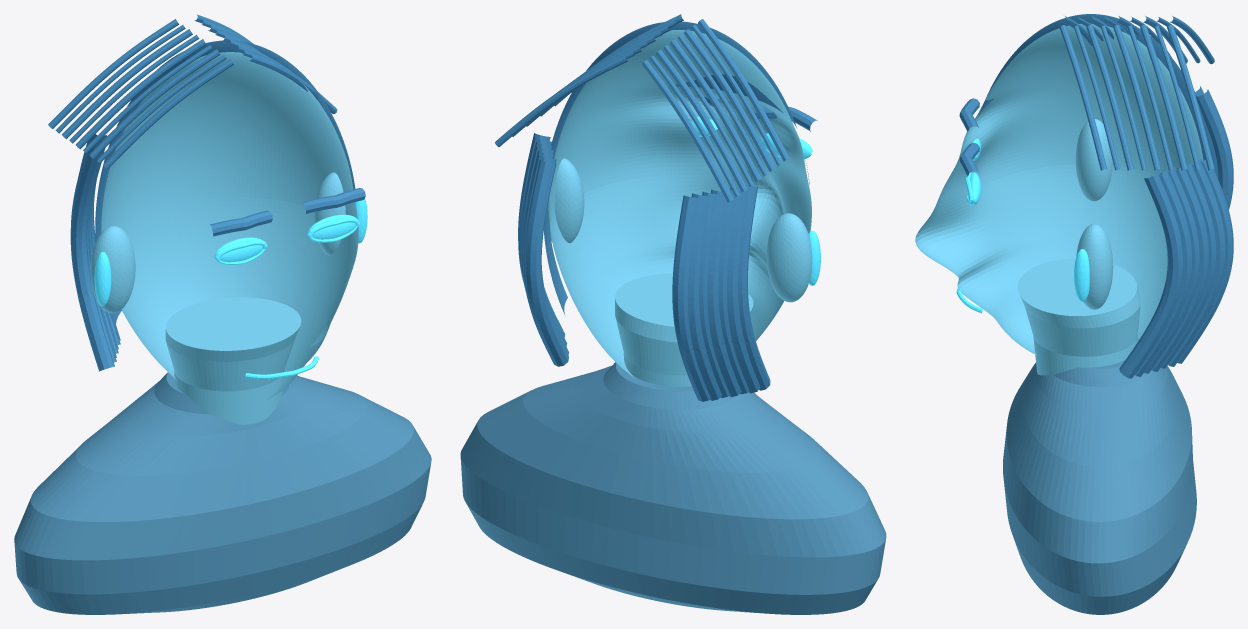
The model's file is hector_hologram_base.glb.
3 renders of one model, left to right at view 1: azimuth 30°, elevation 25°; view 2: azimuth 150°, elevation 25°; view 3: azimuth 270°, elevation 25°, orthographic. The views are drawn at different scales.
Visible parts, largest first — view 1: Hector_Shoulders_Bust, Hector_Face_Surface, Hector_Neck, Hector_Hair_Side_-1_0, Hector_Left_Ear, Hector_Hair_Crown, Hector_Hair_Swept_-1_6, Hector_Hair_Swept_-1_4, Hector_Hair_Swept_-1_2, Hector_Hair_Swept_-1_8, Hector_Hair_Swept_-1_0, Hector_Right_Ear (+11 smaller); view 2: Hector_Shoulders_Bust, Hector_Face_Surface, Hector_Neck, Hector_Hair_Side_1_6, Hector_Left_Ear, Hector_Hair_Side_-1_6, Hector_Hair_Crown, Hector_Hair_Side_-1_5, Hector_Hair_Side_-1_3, Hector_Hair_Side_-1_1, Hector_Hair_Side_-1_0, Hector_Right_Ear (+15 smaller); view 3: Hector_Face_Surface, Hector_Shoulders_Bust, Hector_Neck, Hector_Hair_Side_1_0, Hector_Left_Ear, Hector_Right_Ear, Hector_Hair_Side_1_1, Hector_Hair_Side_1_3, Hector_Hair_Side_1_5, Hector_Hair_Crown, Hector_Hair_Side_-1_6, Hector_Hair_Side_1_6 (+13 smaller).
Part boxes in pixels (left/top/right/bottom): Hector_Shoulders_Bust: left=14, top=372, right=431, bottom=614; Hector_Face_Surface: left=101, top=52, right=358, bottom=400; Hector_Neck: left=165, top=297, right=301, bottom=424; Hector_Hair_Side_-1_0: left=70, top=154, right=114, bottom=371; Hector_Left_Ear: left=90, top=226, right=135, bottom=313; Hector_Hair_Crown: left=95, top=40, right=355, bottom=330; Hector_Hair_Swept_-1_6: left=62, top=29, right=192, bottom=139; Hector_Hair_Swept_-1_4: left=75, top=39, right=206, bottom=149; Hector_Hair_Swept_-1_2: left=89, top=49, right=220, bottom=158; Hector_Hair_Swept_-1_8: left=48, top=19, right=178, bottom=128; Hector_Hair_Swept_-1_0: left=103, top=59, right=233, bottom=169; Hector_Right_Ear: left=314, top=172, right=345, bottom=255; Hector_Shoulders_Bust: left=460, top=362, right=886, bottom=614; Hector_Face_Surface: left=549, top=30, right=811, bottom=377; Hector_Neck: left=615, top=273, right=753, bottom=386; Hector_Hair_Side_1_6: left=524, top=160, right=568, bottom=366; Hector_Left_Ear: left=766, top=213, right=812, bottom=302; Hector_Hair_Side_-1_6: left=672, top=195, right=710, bottom=401; Hector_Hair_Crown: left=543, top=21, right=809, bottom=315; Hector_Hair_Side_-1_5: left=688, top=193, right=722, bottom=400; Hector_Hair_Side_-1_3: left=707, top=189, right=741, bottom=396; Hector_Hair_Side_-1_1: left=727, top=187, right=760, bottom=393; Hector_Hair_Side_-1_0: left=738, top=185, right=770, bottom=390; Hector_Right_Ear: left=547, top=158, right=584, bottom=243; Hector_Face_Surface: left=915, top=23, right=1203, bottom=355; Hector_Shoulders_Bust: left=1003, top=338, right=1196, bottom=614; Hector_Neck: left=1017, top=258, right=1140, bottom=375; Hector_Hair_Side_1_0: left=1119, top=171, right=1183, bottom=378; Hector_Left_Ear: left=1075, top=119, right=1112, bottom=201; Hector_Right_Ear: left=1076, top=223, right=1113, bottom=309; Hector_Hair_Side_1_1: left=1135, top=168, right=1192, bottom=376; Hector_Hair_Side_1_3: left=1151, top=167, right=1209, bottom=371; Hector_Hair_Side_1_5: left=1168, top=158, right=1225, bottom=366; Hector_Hair_Crown: left=979, top=14, right=1214, bottom=170; Hector_Hair_Side_-1_6: left=1196, top=89, right=1233, bottom=209; Hector_Hair_Side_1_6: left=1177, top=160, right=1233, bottom=363.
Size of the model in its own units: 1.88 by 2.35 by 1.3.
